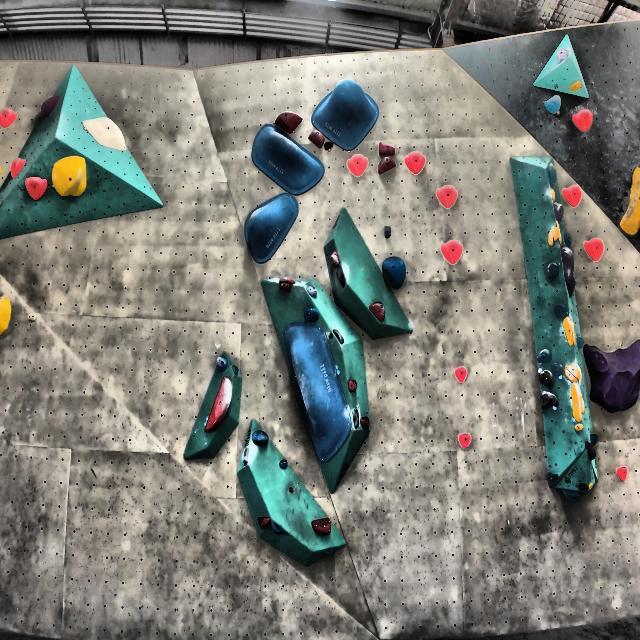Hold: (281, 329, 347, 464), (253, 127, 322, 198), (312, 78, 380, 148), (585, 333, 640, 409), (243, 192, 299, 264), (615, 166, 640, 235), (79, 113, 126, 149), (204, 376, 234, 431), (378, 254, 409, 292), (560, 244, 578, 296), (572, 379, 586, 434), (23, 175, 47, 203), (308, 514, 336, 538), (274, 110, 303, 132), (434, 182, 456, 209), (441, 238, 463, 265), (560, 184, 582, 211), (570, 110, 599, 130), (0, 104, 20, 133), (0, 291, 12, 339), (344, 152, 366, 178), (404, 149, 426, 174), (535, 390, 560, 410), (583, 236, 603, 260), (42, 93, 62, 117), (562, 317, 578, 346), (540, 94, 561, 116), (536, 369, 556, 392), (307, 128, 326, 152), (375, 158, 396, 178), (545, 222, 564, 244), (11, 154, 29, 177), (562, 363, 582, 383), (560, 487, 581, 506), (347, 407, 361, 433), (544, 160, 558, 186), (368, 300, 384, 322), (359, 412, 374, 435), (277, 275, 295, 293), (301, 306, 321, 322), (584, 439, 597, 463), (377, 139, 395, 156), (537, 346, 554, 364), (453, 364, 467, 385), (456, 432, 472, 450), (552, 360, 564, 383), (215, 352, 228, 373), (553, 45, 568, 63), (545, 264, 560, 282), (335, 268, 349, 287), (577, 477, 592, 494), (252, 514, 270, 528), (303, 281, 318, 297), (550, 201, 562, 221), (616, 464, 629, 482), (347, 380, 361, 396), (320, 549, 338, 561), (552, 305, 570, 317), (566, 81, 586, 91), (268, 522, 282, 536), (546, 469, 560, 483), (572, 336, 585, 351), (230, 361, 242, 376), (330, 250, 341, 266), (277, 458, 291, 470), (381, 223, 392, 238), (563, 232, 573, 248), (548, 188, 558, 201), (589, 430, 598, 442)
